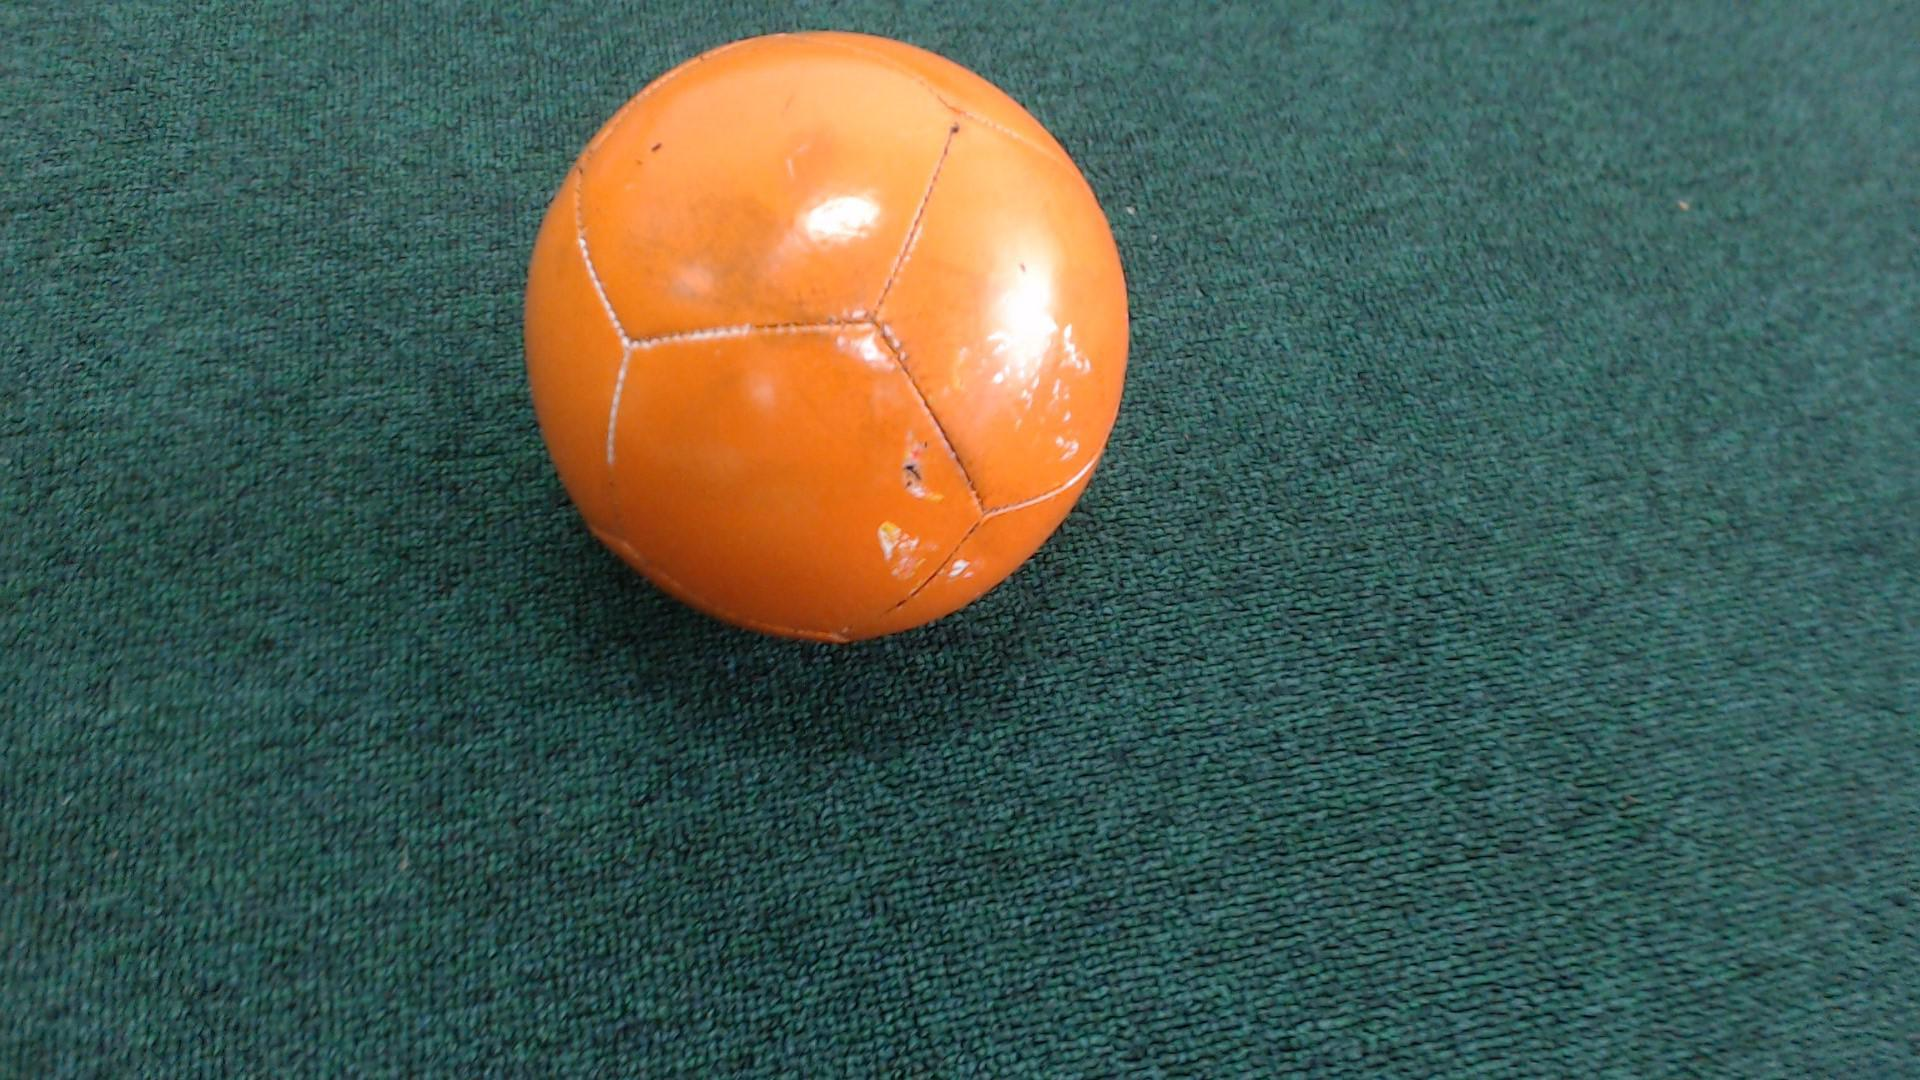bola: (451, 0, 1171, 675)
